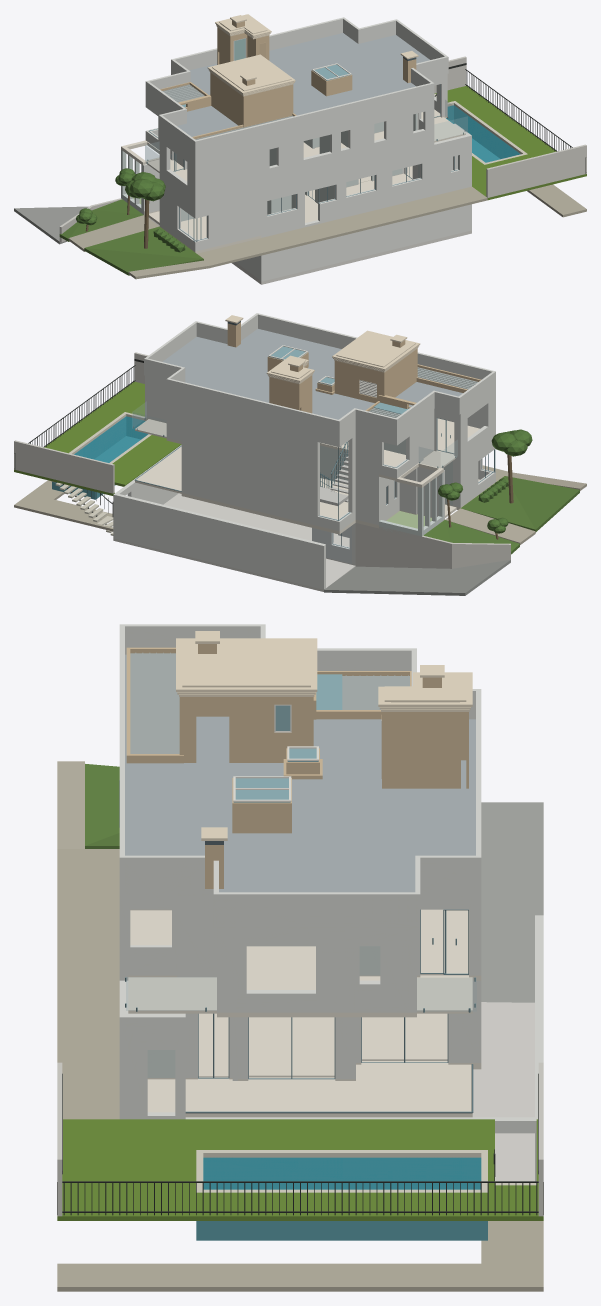
File: aquarius530-f04.glb
3 views of the same model, one above another, from view 1: azimuth 30°, elevation 25°; view 2: azimuth 150°, elevation 25°; view 3: azimuth 270°, elevation 25° (orthographic). The views are drawn at different scales.
Parts seen in each view (by area): view 1: FACHADA_EXTERIOR_UNIFICADA, LAJE_UNICA_COBERTURA_DOCUMENTAL, RENDER_EXTERIOR_RAMPA_JARDIM_1, RENDER_EXTERIOR_RAMPA_JARDIM_13, RENDER_EXTERIOR_PISCINA_TERREO_14, PISCINA_GRAMA_SINTETICA_CONTINUA, RENDER_COBERTURA_HIPOTESE_FOTOGRAFICA_21, RENDER_COBERTURA_HIPOTESE_FOTOGRAFICA_18, RENDER_COBERTURA_HIPOTESE_FOTOGRAFICA_17, RENDER_VEGETACAO_FRONTAL_ESQUEMATICA_2, LAJE_UNICA_TERREO, LAJE_UNICA_SUPERIOR (+14 smaller); view 2: FACHADA_EXTERIOR_UNIFICADA, LAJE_UNICA_COBERTURA_DOCUMENTAL, RENDER_EXTERIOR_RAMPA_JARDIM_3, RENDER_EXTERIOR_RAMPA_JARDIM_13, RAMPA_GARAGEM_CONTINUA, PISCINA_GRAMA_SINTETICA_CONTINUA, RENDER_EXTERIOR_PISCINA_TERREO_14, LAJE_UNICA_GARAGEM, RENDER_COBERTURA_HIPOTESE_FOTOGRAFICA_21, LAJE_UNICA_TERREO, RENDER_COBERTURA_HIPOTESE_FOTOGRAFICA_18, LAJE_UNICA_SUPERIOR (+17 smaller); view 3: FACHADA_EXTERIOR_UNIFICADA, LAJE_UNICA_COBERTURA_DOCUMENTAL, PISCINA_GRAMA_SINTETICA_CONTINUA, LAJE_UNICA_TERREO, RENDER_EXTERIOR_RAMPA_JARDIM_1, PISO_TECNICO_L_FOTOGRAFICO, LAJE_UNICA_SUPERIOR, RENDER_EXTERIOR_PISCINA_TERREO_15, RENDER_COBERTURA_HIPOTESE_FOTOGRAFICA_21, RAMPA_GARAGEM_CONTINUA, PISCINA_AGUA_NIVEL_ILUSTRATIVO, LAJE_UNICA_GARAGEM (+12 smaller).
Part boxes in pixels (x1,y1,x2,y2): FACHADA_EXTERIOR_UNIFICADA: (142, 17, 471, 281); LAJE_UNICA_COBERTURA_DOCUMENTAL: (177, 33, 429, 136); RENDER_EXTERIOR_RAMPA_JARDIM_1: (68, 186, 487, 279); RENDER_EXTERIOR_RAMPA_JARDIM_13: (59, 199, 203, 275); RENDER_EXTERIOR_PISCINA_TERREO_14: (434, 56, 586, 197); PISCINA_GRAMA_SINTETICA_CONTINUA: (434, 86, 586, 200); RENDER_COBERTURA_HIPOTESE_FOTOGRAFICA_21: (160, 20, 416, 139); RENDER_COBERTURA_HIPOTESE_FOTOGRAFICA_18: (210, 72, 293, 127); RENDER_COBERTURA_HIPOTESE_FOTOGRAFICA_17: (207, 54, 295, 96); RENDER_VEGETACAO_FRONTAL_ESQUEMATICA_2: (76, 168, 185, 252); LAJE_UNICA_TERREO: (143, 166, 412, 253); LAJE_UNICA_SUPERIOR: (121, 109, 465, 181); FACHADA_EXTERIOR_UNIFICADA: (113, 313, 495, 589); LAJE_UNICA_COBERTURA_DOCUMENTAL: (162, 329, 462, 419); RENDER_EXTERIOR_RAMPA_JARDIM_3: (355, 523, 510, 568); RENDER_EXTERIOR_RAMPA_JARDIM_13: (423, 476, 579, 554); RAMPA_GARAGEM_CONTINUA: (324, 560, 510, 595); PISCINA_GRAMA_SINTETICA_CONTINUA: (14, 381, 181, 495); RENDER_EXTERIOR_PISCINA_TERREO_14: (14, 352, 148, 493); LAJE_UNICA_GARAGEM: (113, 493, 355, 591); RENDER_COBERTURA_HIPOTESE_FOTOGRAFICA_21: (227, 322, 481, 413); LAJE_UNICA_TERREO: (135, 446, 495, 534); RENDER_COBERTURA_HIPOTESE_FOTOGRAFICA_18: (334, 340, 417, 402); LAJE_UNICA_SUPERIOR: (135, 417, 479, 487); FACHADA_EXTERIOR_UNIFICADA: (119, 624, 543, 1181); LAJE_UNICA_COBERTURA_DOCUMENTAL: (125, 654, 475, 892); PISCINA_GRAMA_SINTETICA_CONTINUA: (57, 1119, 543, 1220); LAJE_UNICA_TERREO: (147, 1013, 481, 1117); RENDER_EXTERIOR_RAMPA_JARDIM_1: (57, 761, 119, 1119); PISO_TECNICO_L_FOTOGRAFICO: (57, 1221, 543, 1291); LAJE_UNICA_SUPERIOR: (128, 909, 481, 1017); RENDER_EXTERIOR_PISCINA_TERREO_15: (196, 1158, 487, 1240); RENDER_COBERTURA_HIPOTESE_FOTOGRAFICA_21: (126, 647, 468, 888); RAMPA_GARAGEM_CONTINUA: (481, 802, 543, 1002); PISCINA_AGUA_NIVEL_ILUSTRATIVO: (203, 1157, 481, 1189); LAJE_UNICA_GARAGEM: (472, 1002, 534, 1181).
Bounding box in the file's own units: 30 × 12.46 × 14.02.
